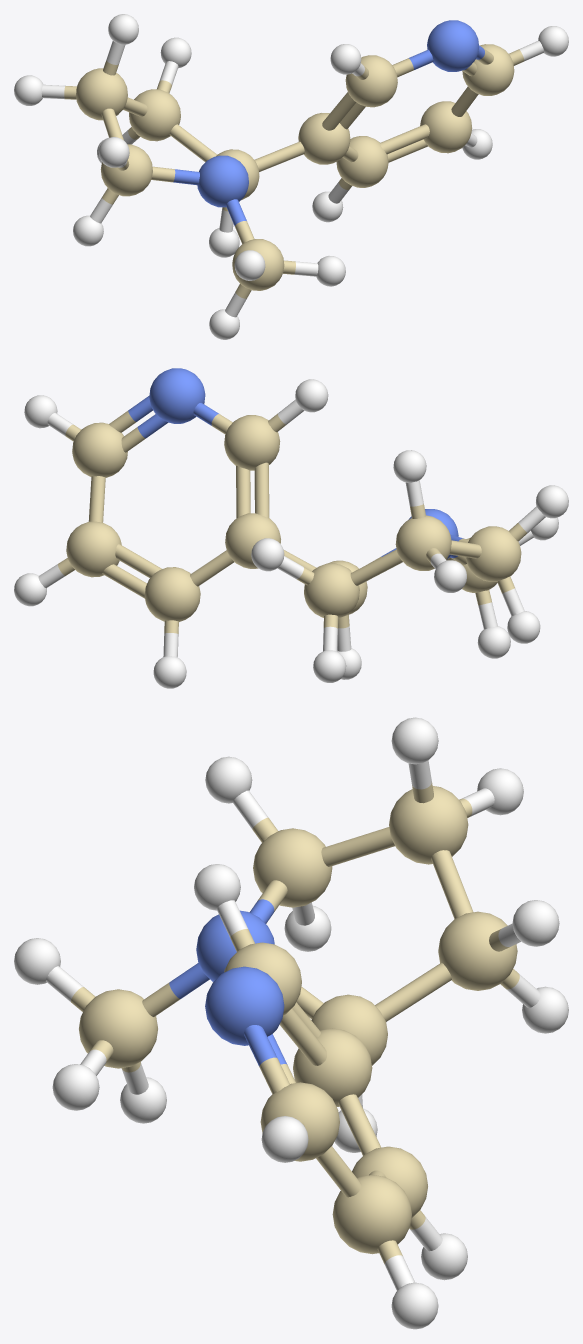
Rendered from Nicotine.glb.
3 renders of one model, top to bottom at view 1: azimuth 30°, elevation 25°; view 2: azimuth 150°, elevation 25°; view 3: azimuth 270°, elevation 25°, orthographic. The views are drawn at different scales.
Parts seen in each view (by area): view 1: atoms, sticks, hydrogen; view 2: atoms, sticks, hydrogen; view 3: atoms, sticks, hydrogen.
Part boxes in pixels (x1=…): atoms: x1=76, y1=20, x2=514, y2=290; sticks: x1=41, y1=40, x2=543, y2=317; hydrogen: x1=14, y1=14, x2=568, y2=339; atoms: x1=66, y1=368, x2=521, y2=621; sticks: x1=38, y1=395, x2=545, y2=657; hydrogen: x1=14, y1=379, x2=568, y2=688; atoms: x1=79, y1=786, x2=517, y2=1254; sticks: x1=46, y1=760, x2=540, y2=1290; hydrogen: x1=14, y1=717, x2=568, y2=1329.
Bounding box in the file's own units: 8.32 × 4.34 × 5.45.
